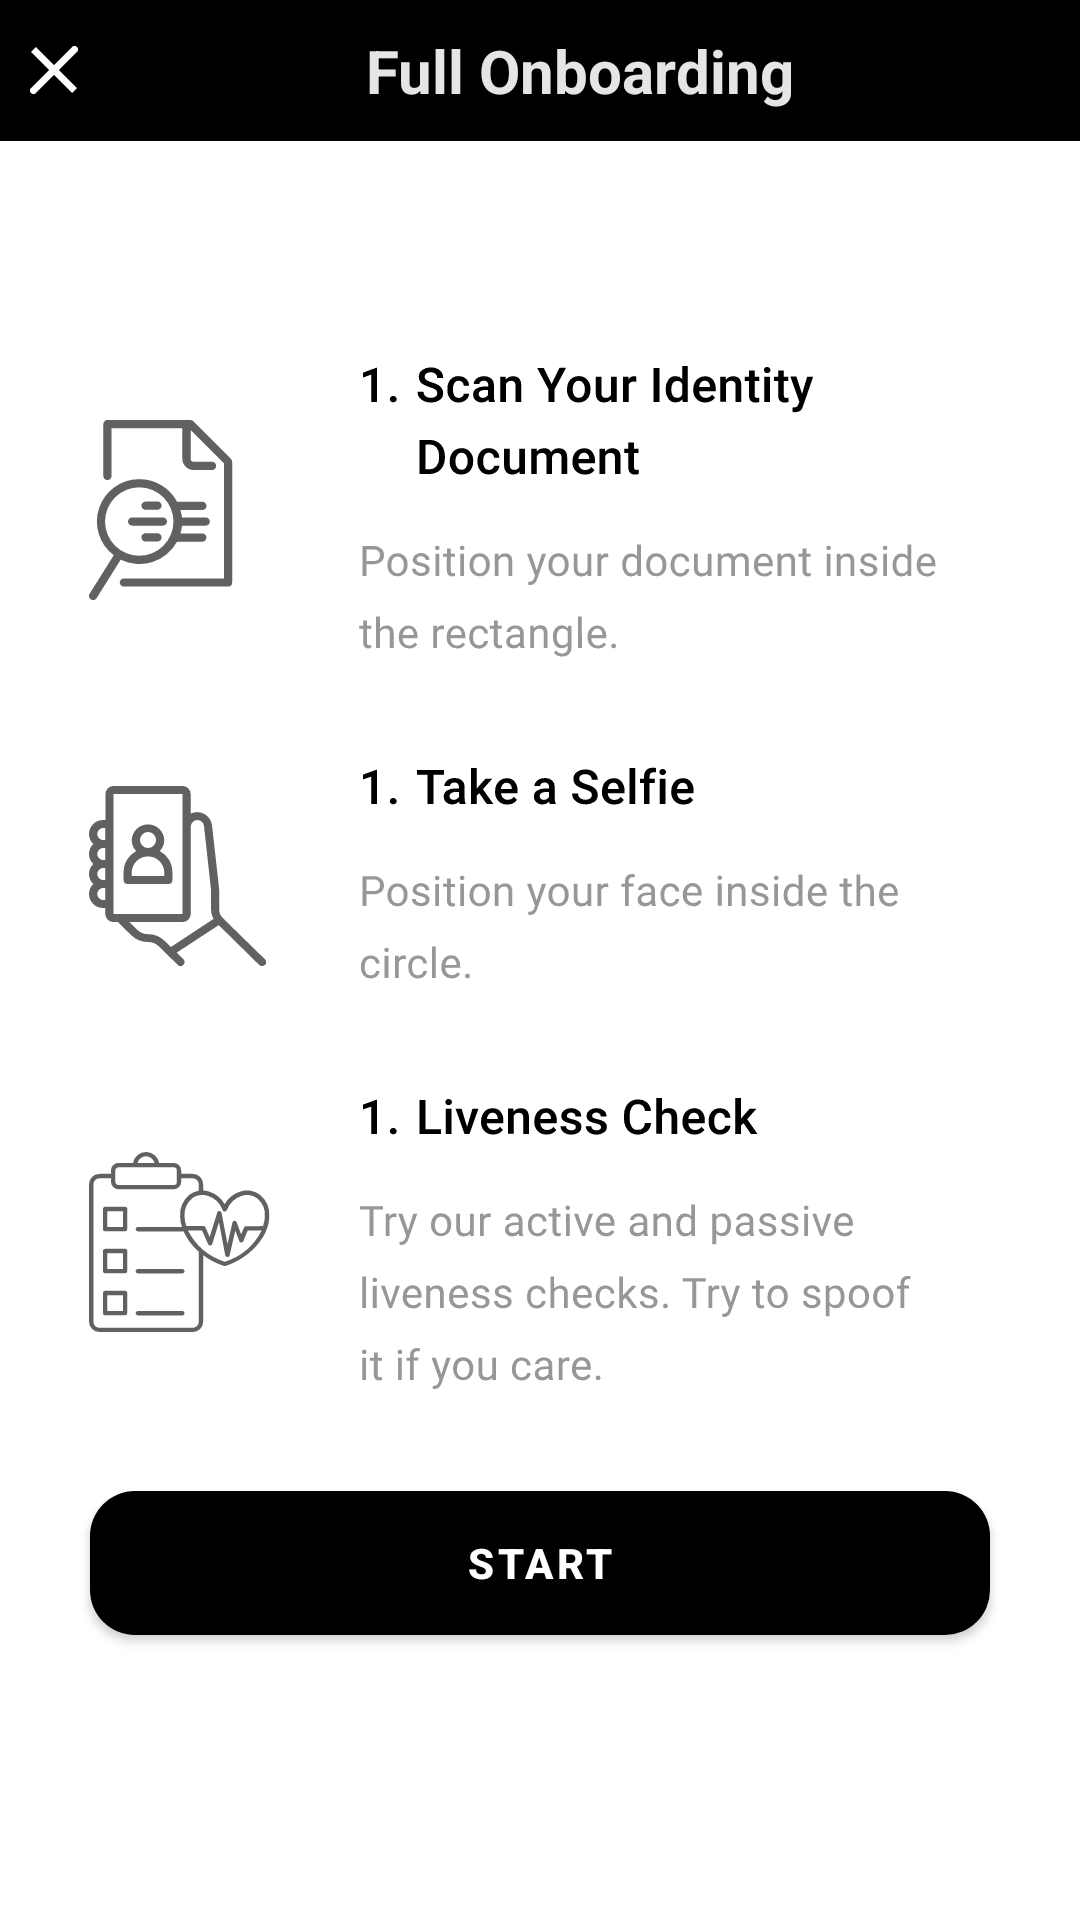

Point at icon controls on the screen. Image size 1080x1920, points as (x=x, y=y).
close: (x=54, y=70)
